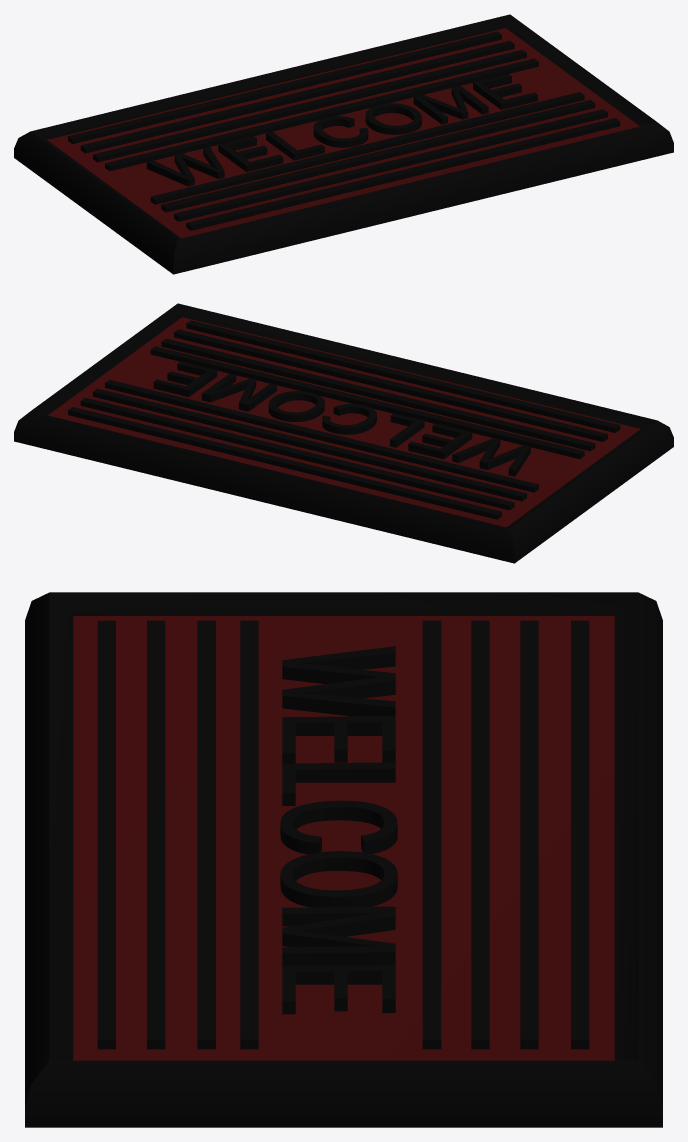
File: Welcome Mat.fbx
The picture shows the model from 3 angles, top to bottom: view 1: azimuth 30°, elevation 25°; view 2: azimuth 150°, elevation 25°; view 3: azimuth 270°, elevation 25°; orthographic projection. The views are drawn at different scales.
Visible parts, largest first — view 1: pCube10; view 2: pCube10; view 3: pCube10.
Boxes of the visible parts, <box> form: pCube10: <box>14,14,673,274</box>; pCube10: <box>14,303,673,563</box>; pCube10: <box>25,592,662,1127</box>.
Bounding box in the file's own units: 131 × 7.18 × 72.44.
